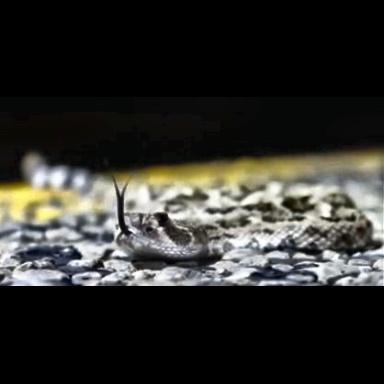snake: (111, 178, 381, 262)
